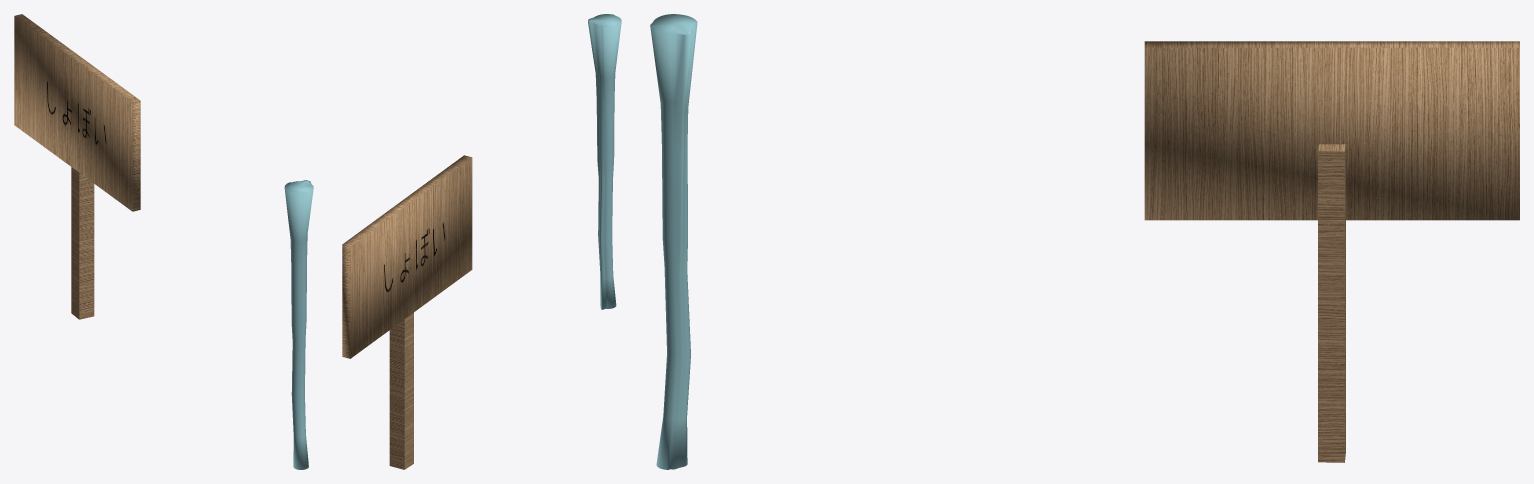
Rendered from kanban_shinro.fbx.
3 renders of one model, left to right at view 1: azimuth 30°, elevation 25°; view 2: azimuth 150°, elevation 25°; view 3: azimuth 270°, elevation 25°, orthographic. The views are drawn at different scales.
Parts seen in each view (by area): view 1: 立方体, 円柱; view 2: 立方体, 円柱; view 3: 立方体, 円柱.
Part boxes in pixels (x1,y1,x2,y2): 立方体: (14, 14, 140, 319); 円柱: (284, 180, 313, 469); 立方体: (342, 155, 472, 469); 円柱: (588, 14, 621, 309); 立方体: (1144, 41, 1519, 462); 円柱: (650, 14, 697, 469).
Bounding box in the file's own units: 0.4273 × 3.5 × 6.27.
